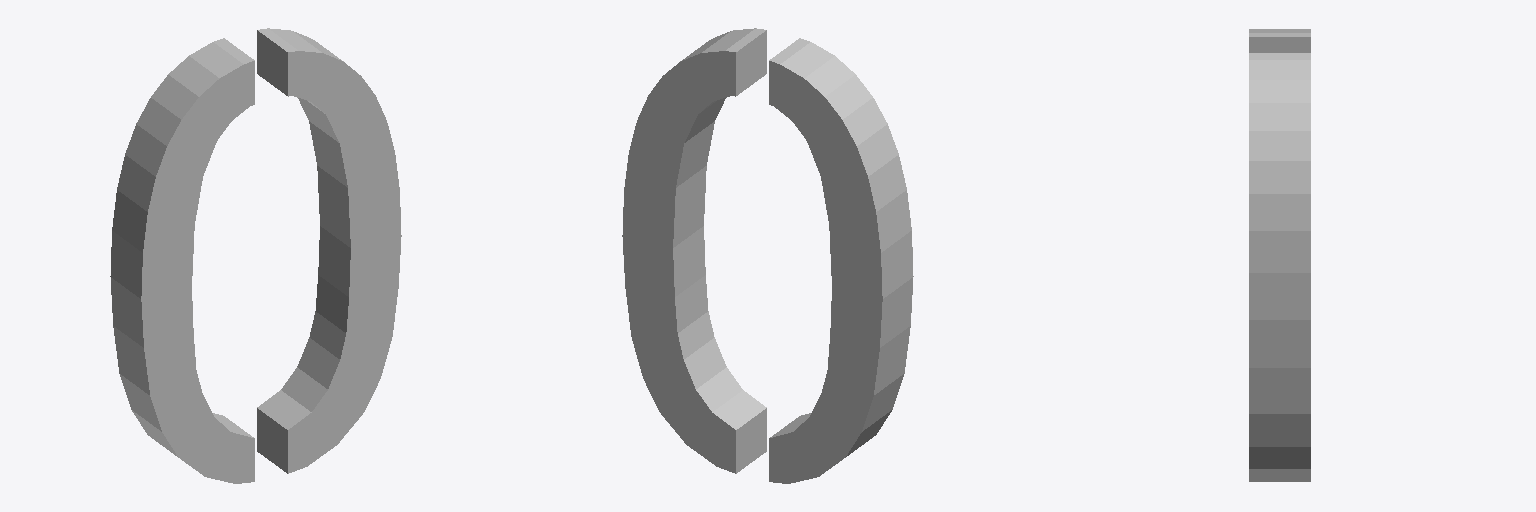
File: zero_3006_01.obj
3 renders of one model, left to right at view 1: azimuth 30°, elevation 25°; view 2: azimuth 150°, elevation 25°; view 3: azimuth 270°, elevation 25°, orthographic.
Visible parts, largest first — view 1: polySurface637; view 2: polySurface637; view 3: polySurface637.
Part boxes in pixels (bbox=[...]): polySurface637: bbox=[110, 28, 401, 483]; polySurface637: bbox=[622, 28, 913, 483]; polySurface637: bbox=[1249, 29, 1310, 481].
Bounding box in the file's own units: 0.8357 × 1.29 × 0.1719.